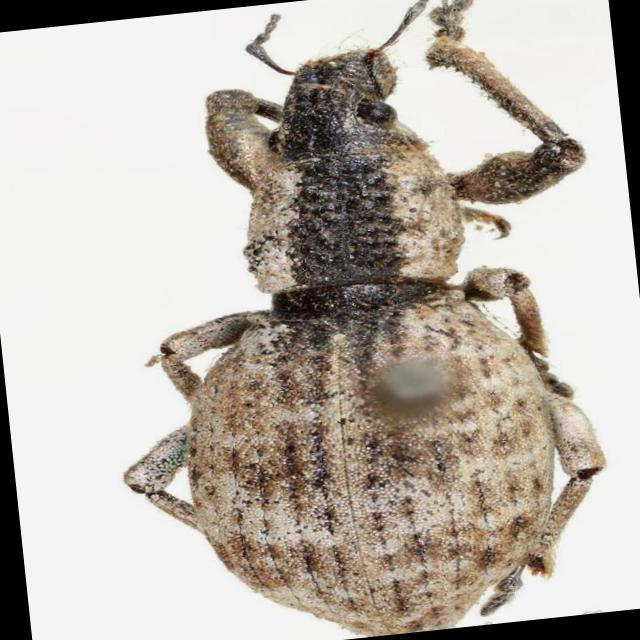ricebug: (124, 49, 605, 635)
